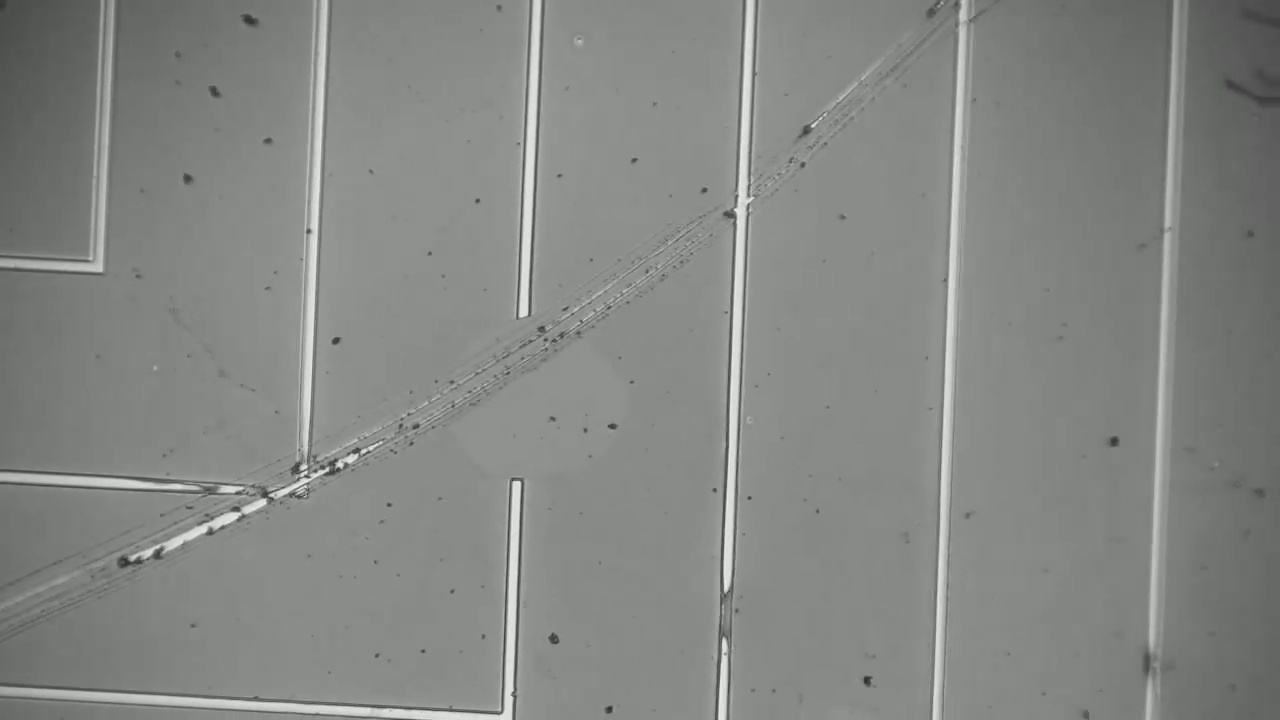gray_line: (706, 569, 745, 666), (1127, 634, 1173, 703)
open: (481, 264, 557, 522)
scratch: (380, 11, 954, 448), (1, 448, 370, 639)
